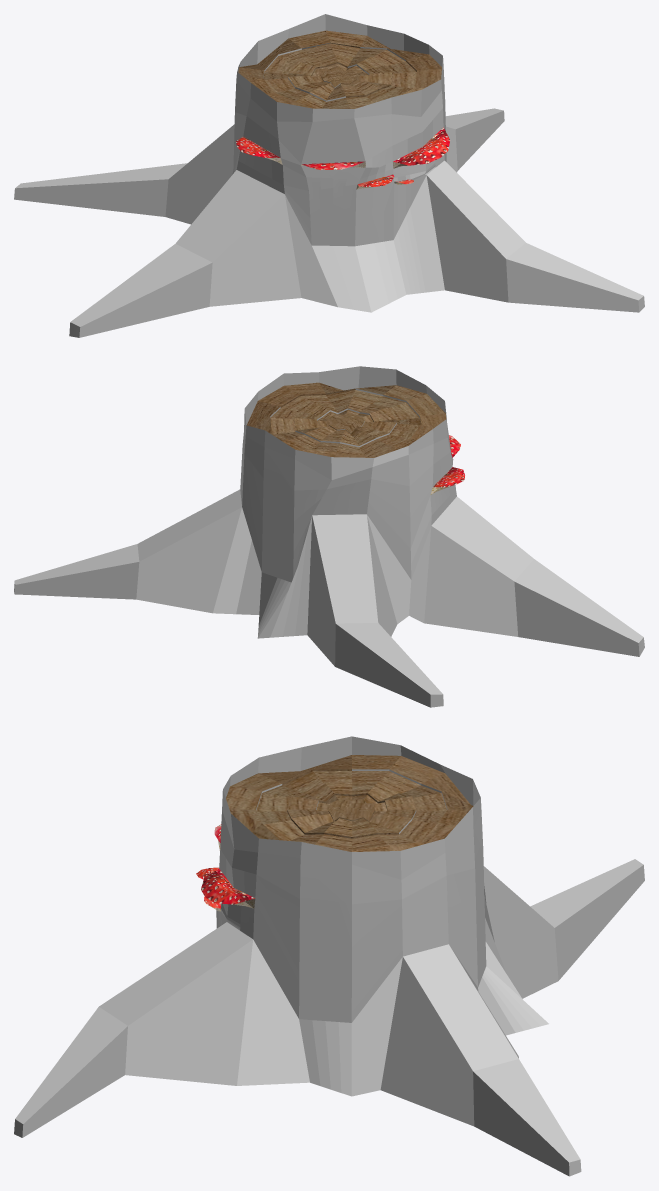
The model's file is NEW tree stump TW.fbx.
The picture shows the model from 3 angles, top to bottom: view 1: azimuth 30°, elevation 25°; view 2: azimuth 150°, elevation 25°; view 3: azimuth 270°, elevation 25°; orthographic projection. The views are drawn at different scales.
Parts seen in each view (by area): view 1: Cube.003; view 2: Cube.003; view 3: Cube.003.
Part boxes in pixels (box(x1,y1,x2,y2)): Cube.003: box(14, 14, 644, 337); Cube.003: box(14, 366, 644, 707); Cube.003: box(14, 736, 644, 1176).
Bounding box in the file's own units: 828 × 293 × 672.
